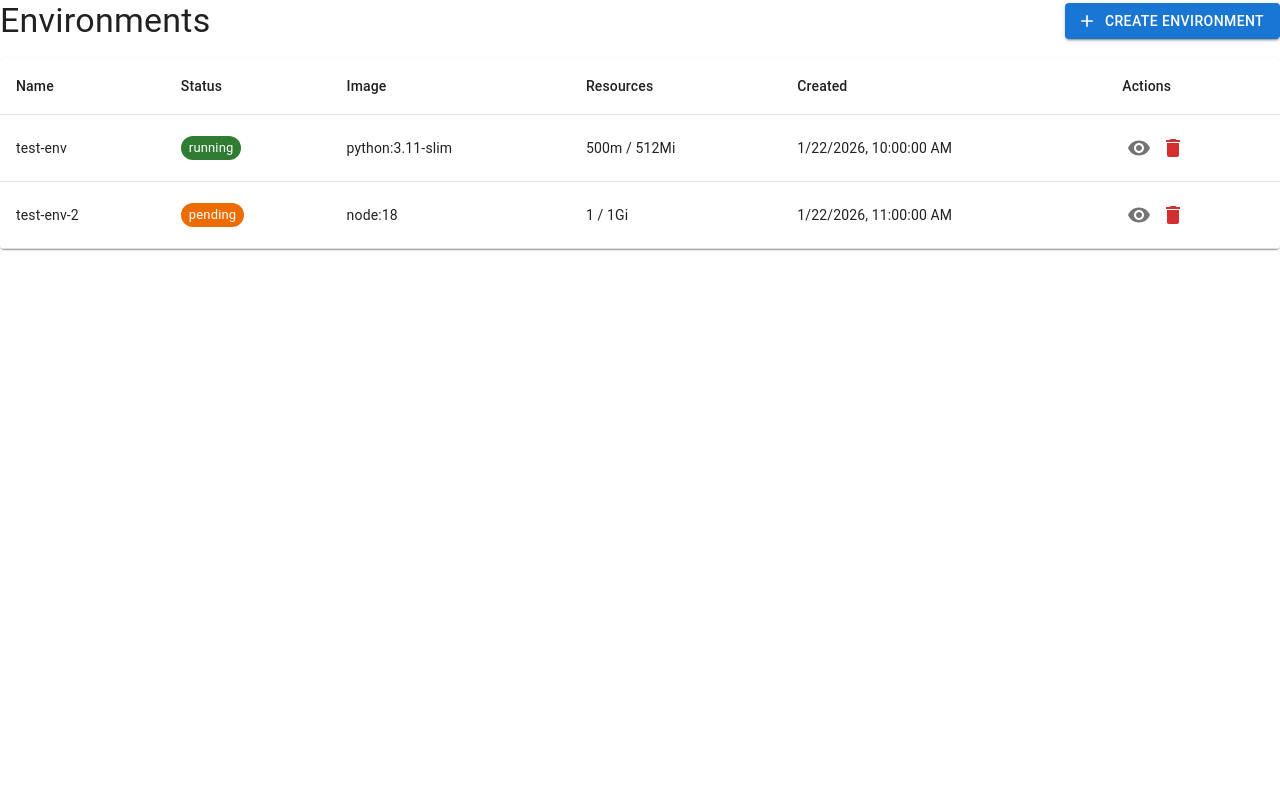
Test: EnvironmentsPage › opens create dialog when button is clicked
Click the button "Create Environment". click: (1172, 21)
box: top-left (1065, 3), bottom-right (1279, 39)
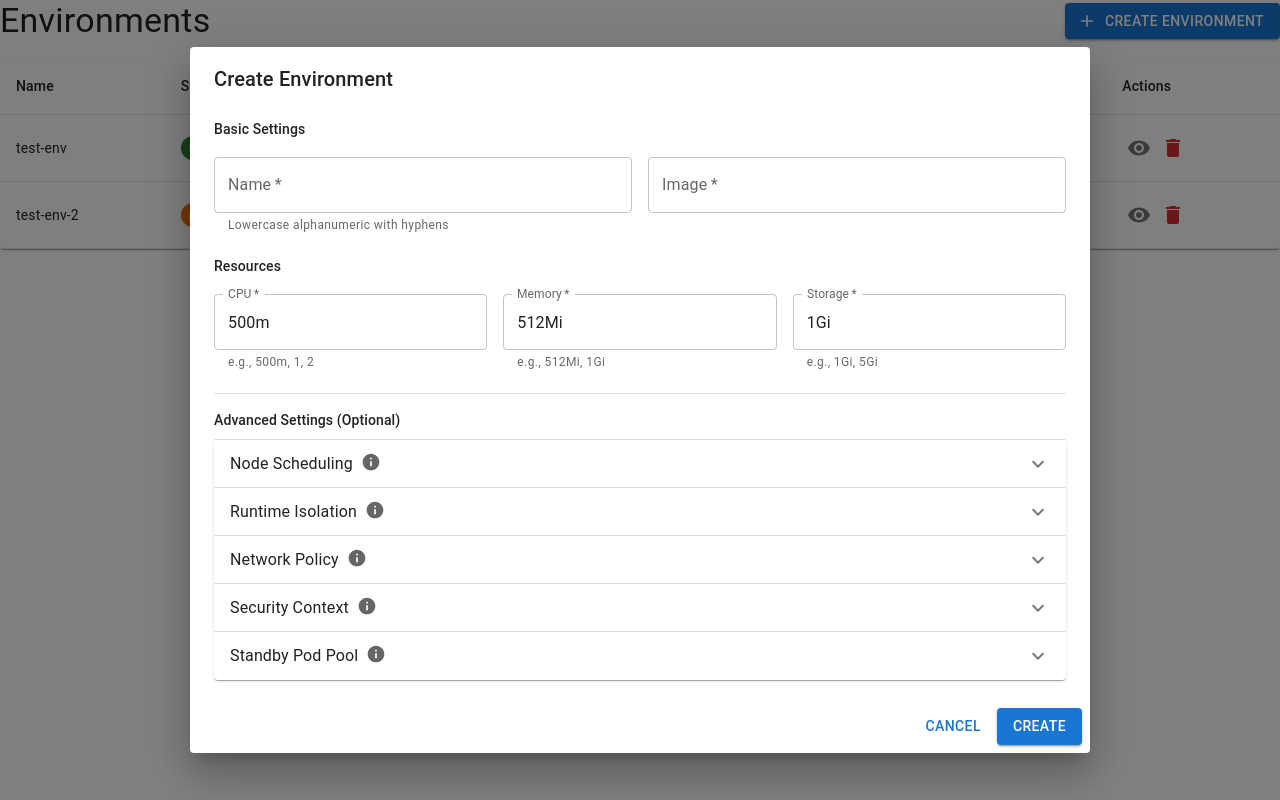
Now the dialog is shown
